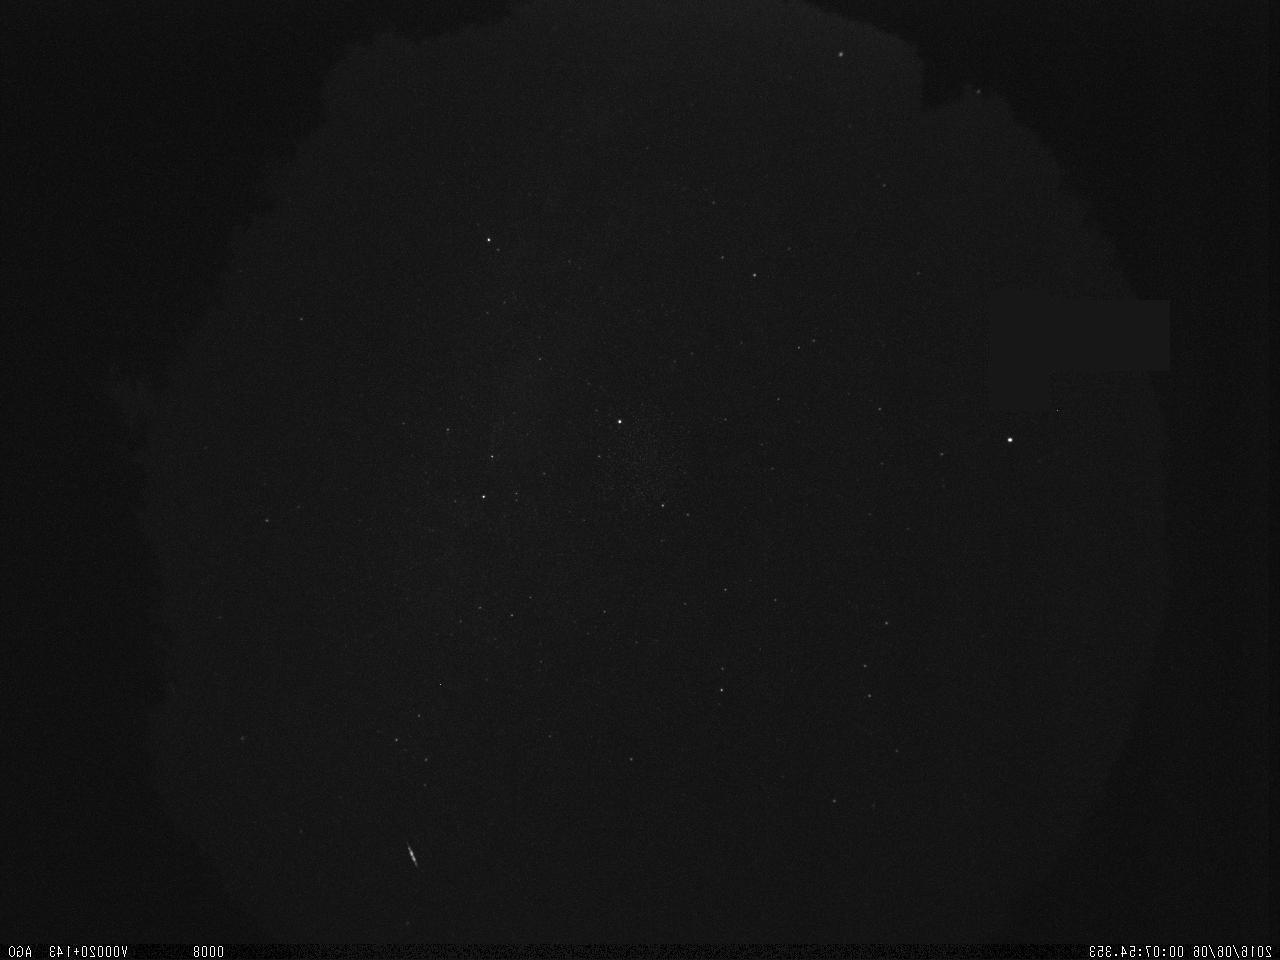meteor: (399, 834, 426, 876)
